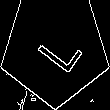L_NW: (27, 22, 83, 77)
